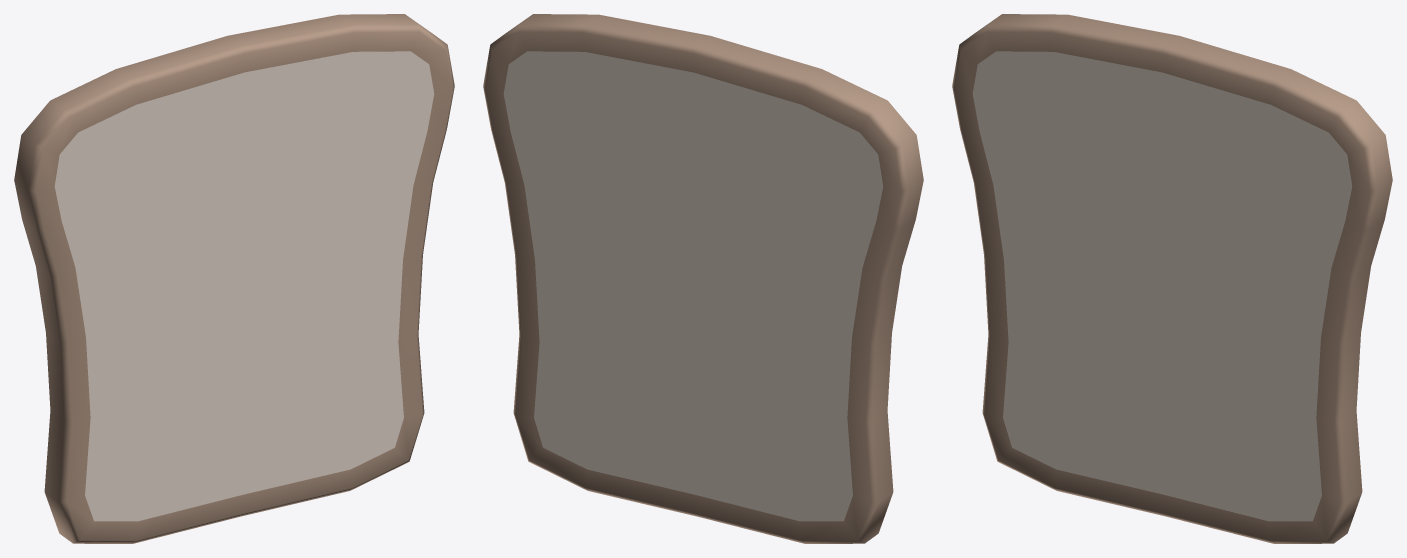
Rendered from Bread_slice_1.glb.
3 views of the same model, side by side, from view 1: azimuth 30°, elevation 25°; view 2: azimuth 150°, elevation 25°; view 3: azimuth 330°, elevation 25° (orthographic).
Parts seen in each view (by area): view 1: Bread_slice_1; view 2: Bread_slice_1; view 3: Bread_slice_1.
Boxes of the visible parts, x1,y1,x2,y2 form: Bread_slice_1: (14,14,454,543); Bread_slice_1: (483,14,923,543); Bread_slice_1: (952,14,1392,543).
Bounding box in the file's own units: 0.2214 × 0.2337 × 0.018.
1 material, 1 textured.
